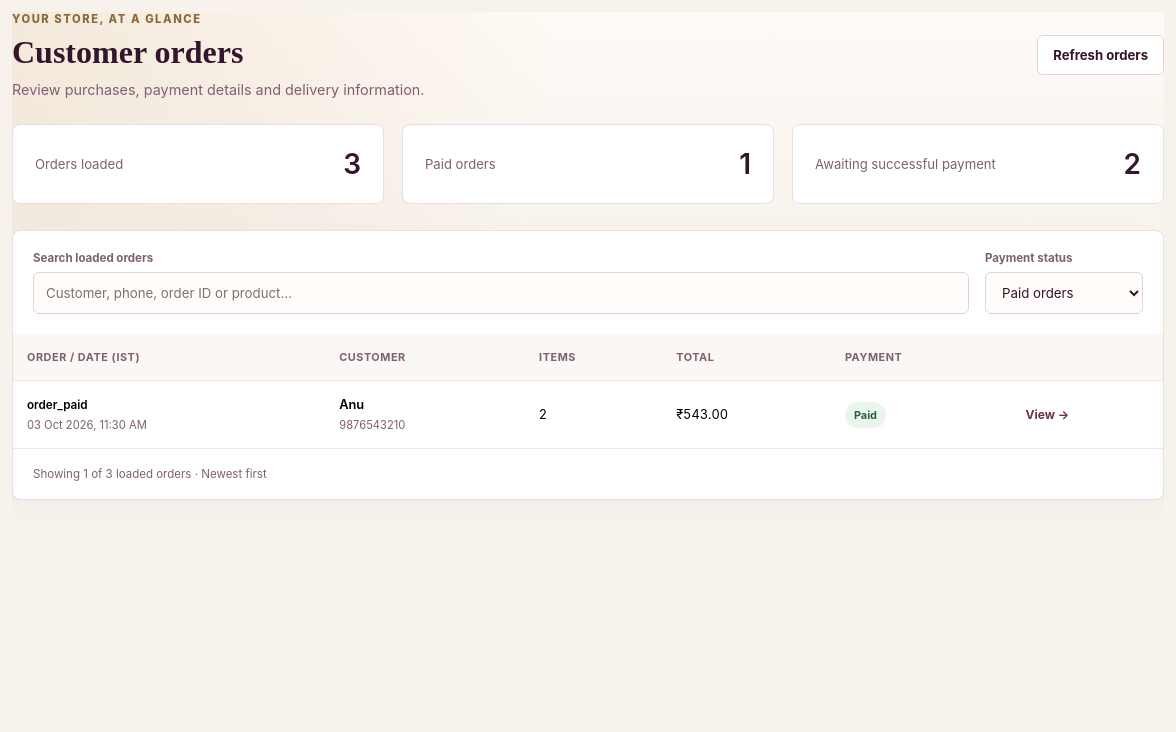
Test: AdminOrdersComponent › filters failed attempts without treating a later successful payment as failed
Step 1. Select "Payment failed" in the dropdown labelled "Payment status" → (1064, 293), box [985,272,1143,314]
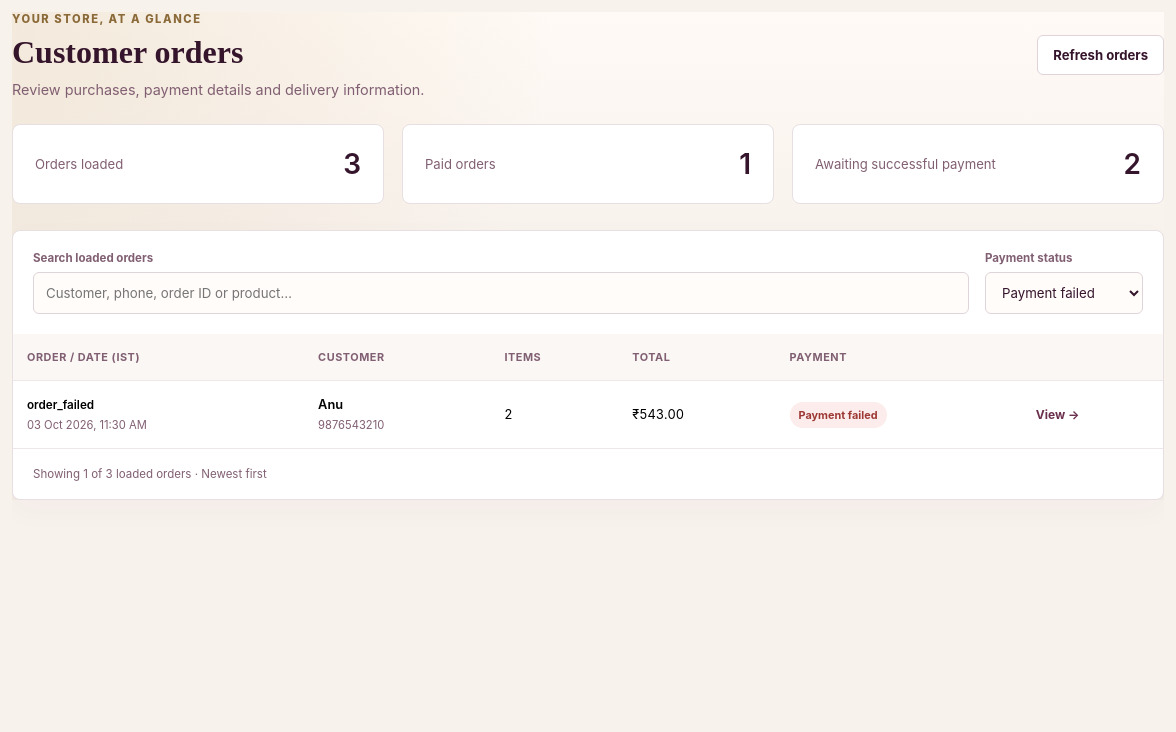
Check: the table shows "order_failed", box [27,398,94,412]
Check: the text "order_paid" is gone
Step 2. Type "no-such-customer" into the search field labelled "Search loaded orders" → (501, 293), box [33,272,969,314]
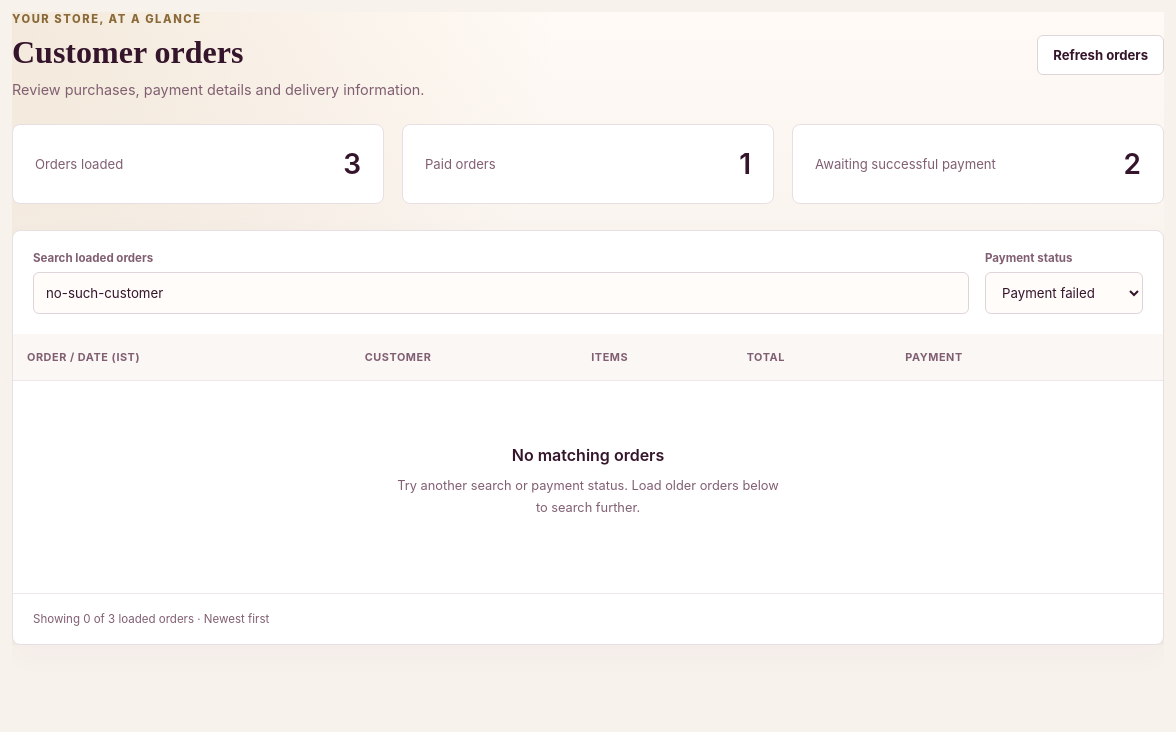
Check: the table shows "No matching orders", box [512,445,664,465]
